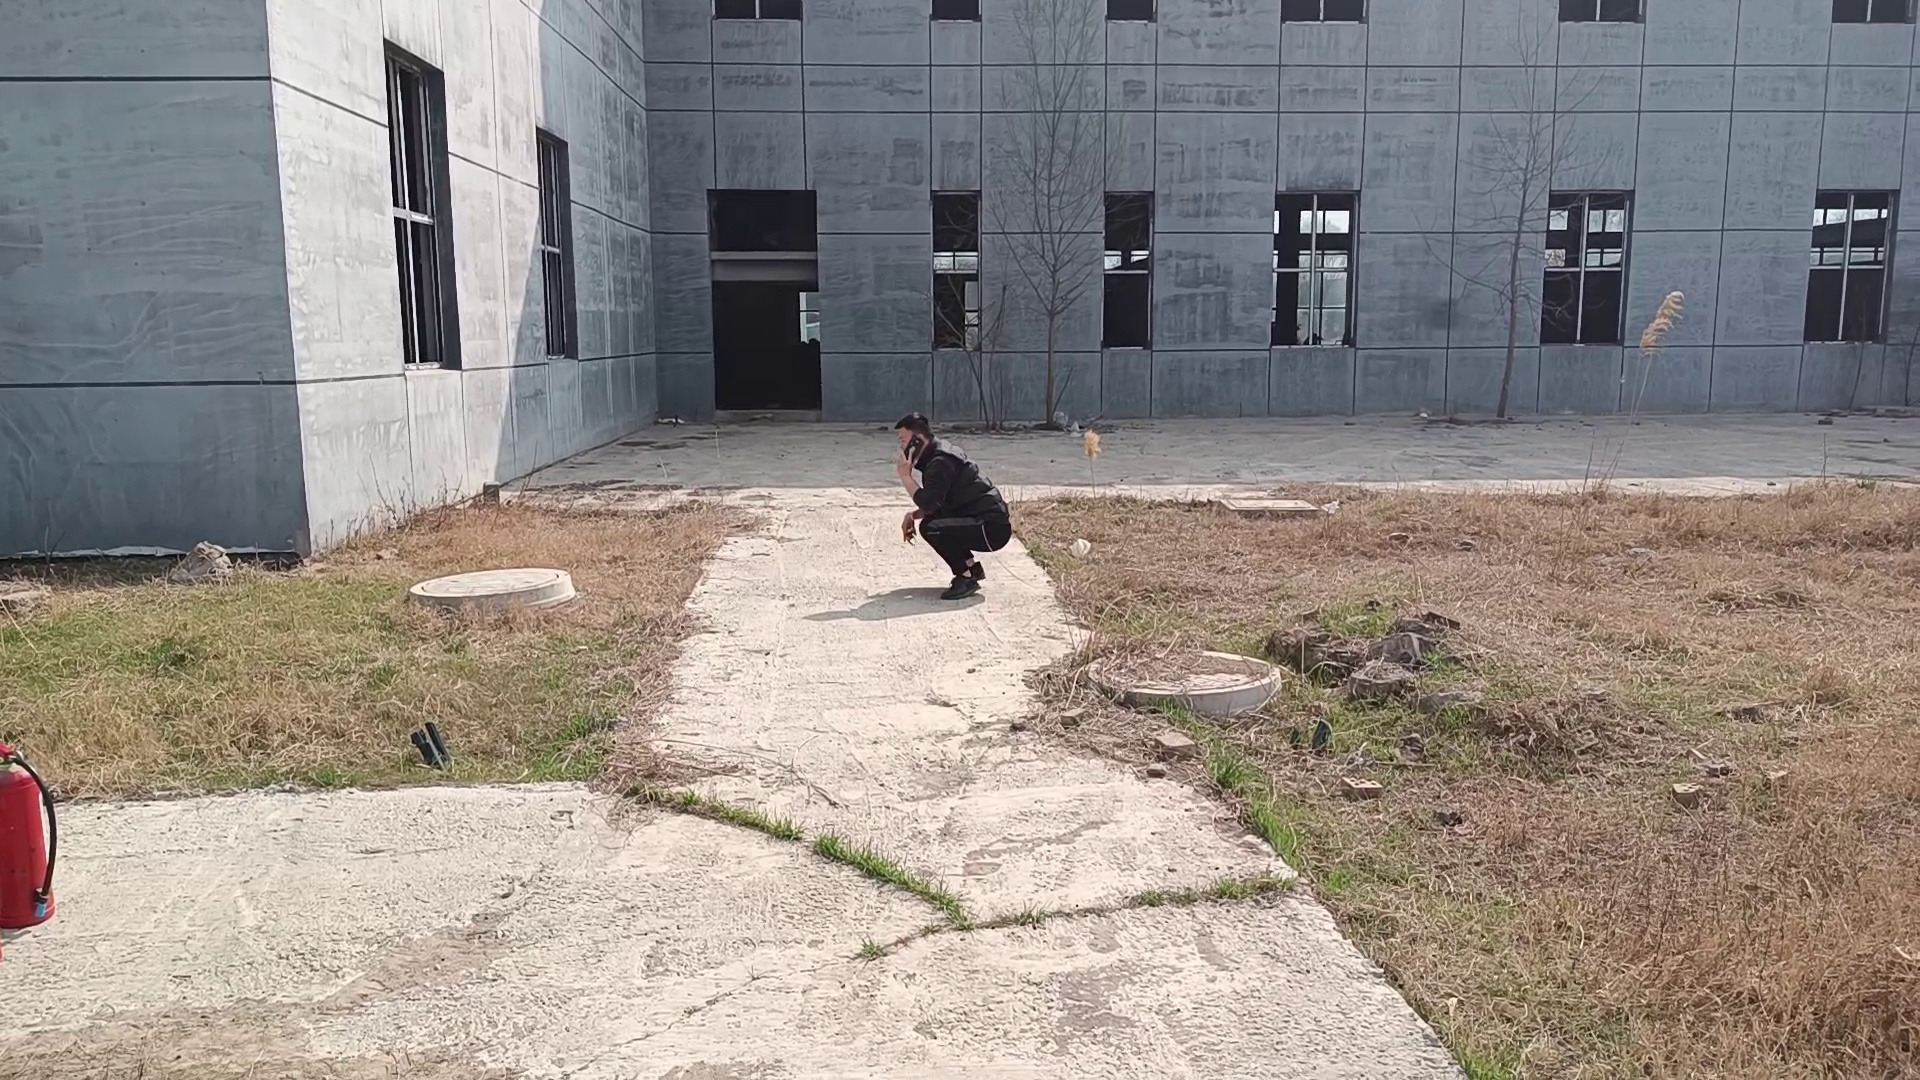phone: (884, 415, 940, 464)
